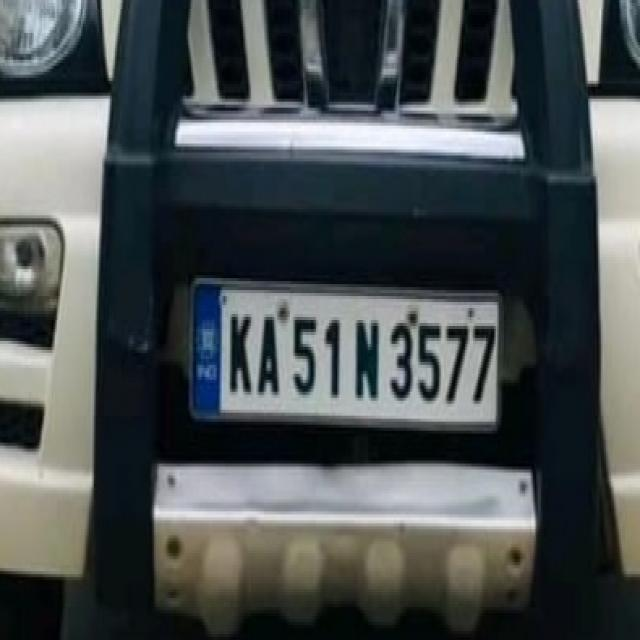1: (321, 308, 346, 410)
3: (388, 310, 414, 408)
5: (414, 308, 444, 410), (291, 304, 319, 399)
7: (470, 311, 499, 413), (442, 312, 470, 413)
A: (256, 304, 285, 402)
K: (226, 304, 254, 402)
N: (352, 312, 384, 415)
